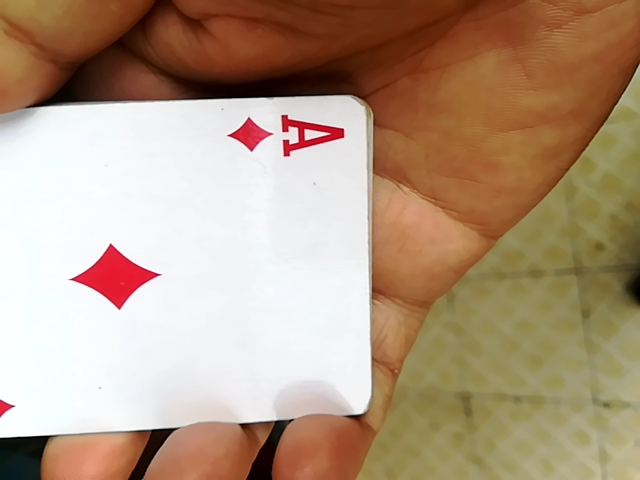fk a: (3, 98, 382, 443)
